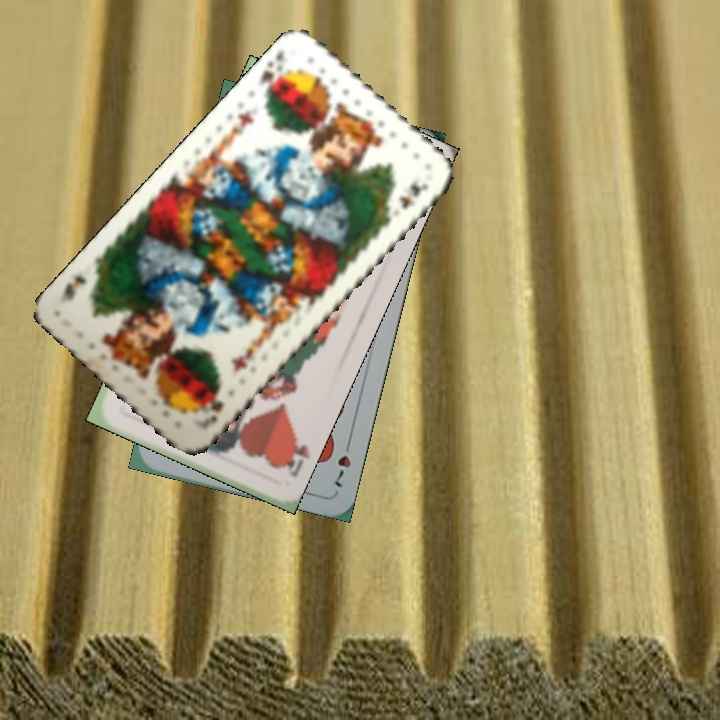H7: (330, 434, 354, 490)
HO: (275, 429, 312, 480)
SK: (255, 47, 288, 100), (197, 384, 227, 431)
